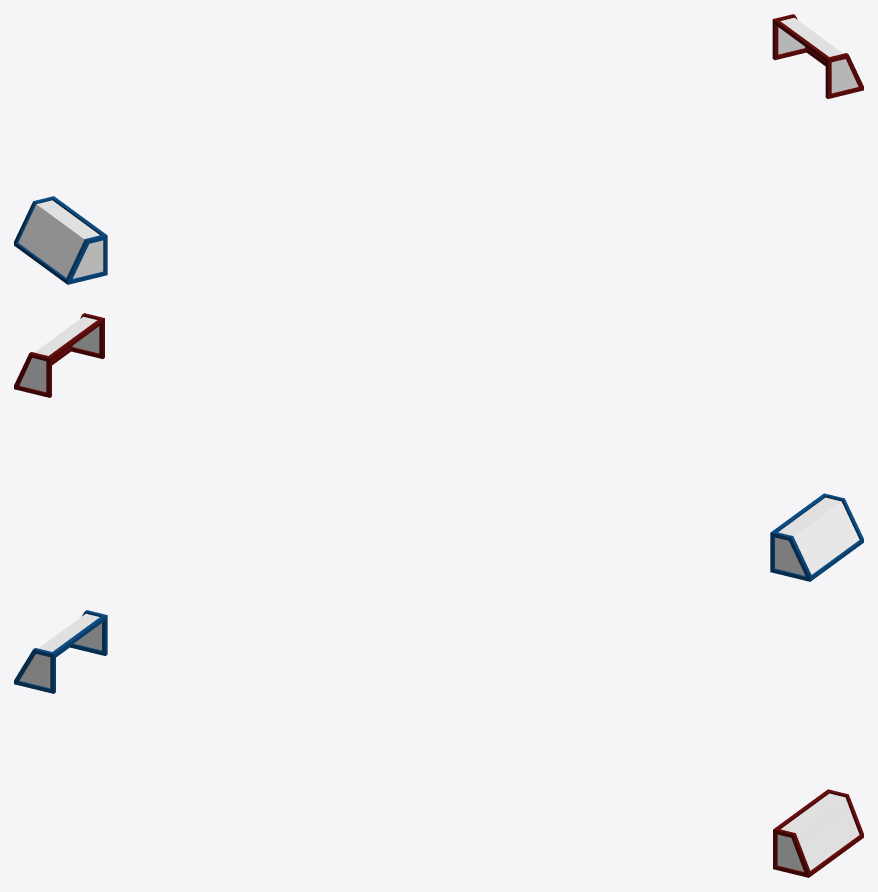
The model's file is soccer_goals_v1.fbx.
The picture shows the model from 3 angles, top to bottom: view 1: azimuth 30°, elevation 25°; view 2: azimuth 150°, elevation 25°; view 3: azimuth 330°, elevation 25°; orthographic projection.
Parts seen in each view (by area): view 1: net_back, goal_A, goal_B, net_top (×2), net_back1, net_left, net_right; view 2: net_back, goal_B, goal_A, net_top (×2), net_back1, net_right, net_left; view 3: net_back, goal_A, goal_B, net_top (×2), net_back1, net_left, net_right.
Boxes of the visible parts, box(x1,y1,x2,y2) form: net_back: box(18, 204, 84, 277); goal_A: box(772, 14, 863, 98); goal_B: box(14, 196, 107, 284); net_top (×2): box(36, 17, 842, 239); net_back1: box(20, 205, 83, 271); net_left: box(73, 240, 103, 278); net_right: box(831, 59, 858, 93); net_back: box(793, 501, 859, 574); goal_B: box(770, 493, 863, 581); goal_A: box(14, 313, 104, 397); net_top (×2): box(34, 316, 841, 536); net_back1: box(794, 502, 856, 572); net_right: box(775, 537, 805, 575); net_left: box(19, 358, 46, 392); net_back: box(796, 797, 859, 870); goal_A: box(773, 789, 863, 877); goal_B: box(14, 610, 107, 693); net_top (×2): box(38, 614, 844, 833); net_back1: box(798, 798, 858, 869); net_left: box(19, 654, 50, 687); net_right: box(777, 834, 803, 871).
Size of the model in its own units: 1.2 by 0.0573 by 0.1452.
3 materials, 1 textured.
